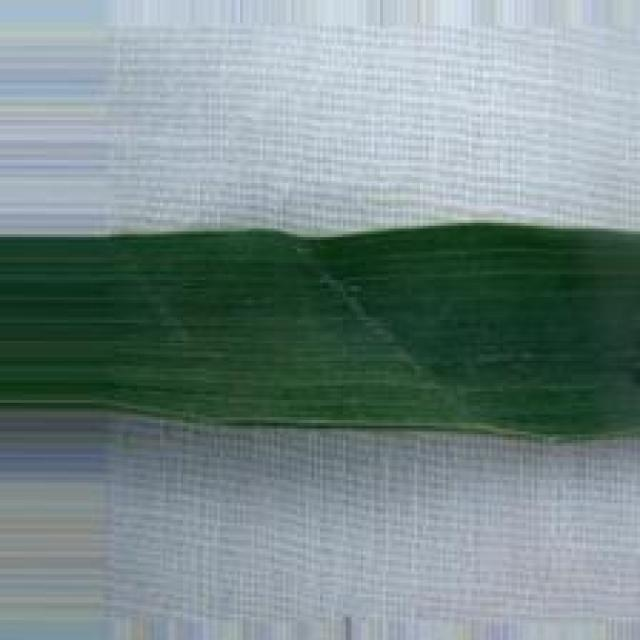Healthy: (0, 221, 639, 447)
